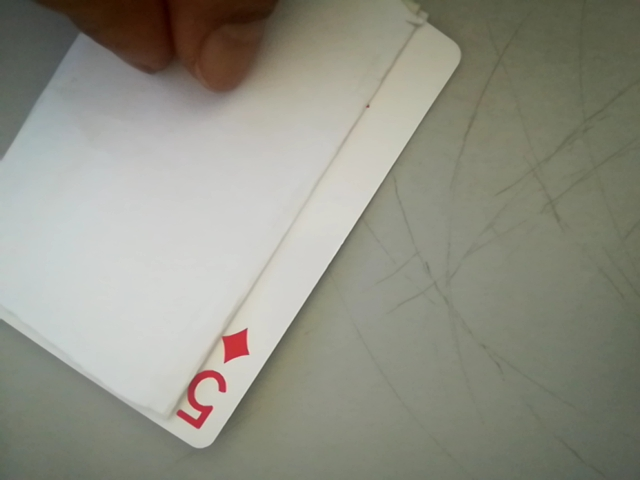fk 5: (169, 320, 258, 442)
